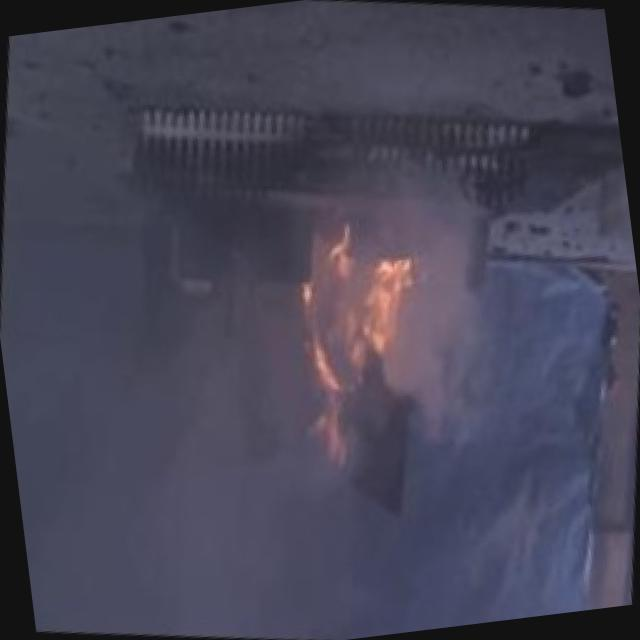fire: (252, 190, 448, 443)
